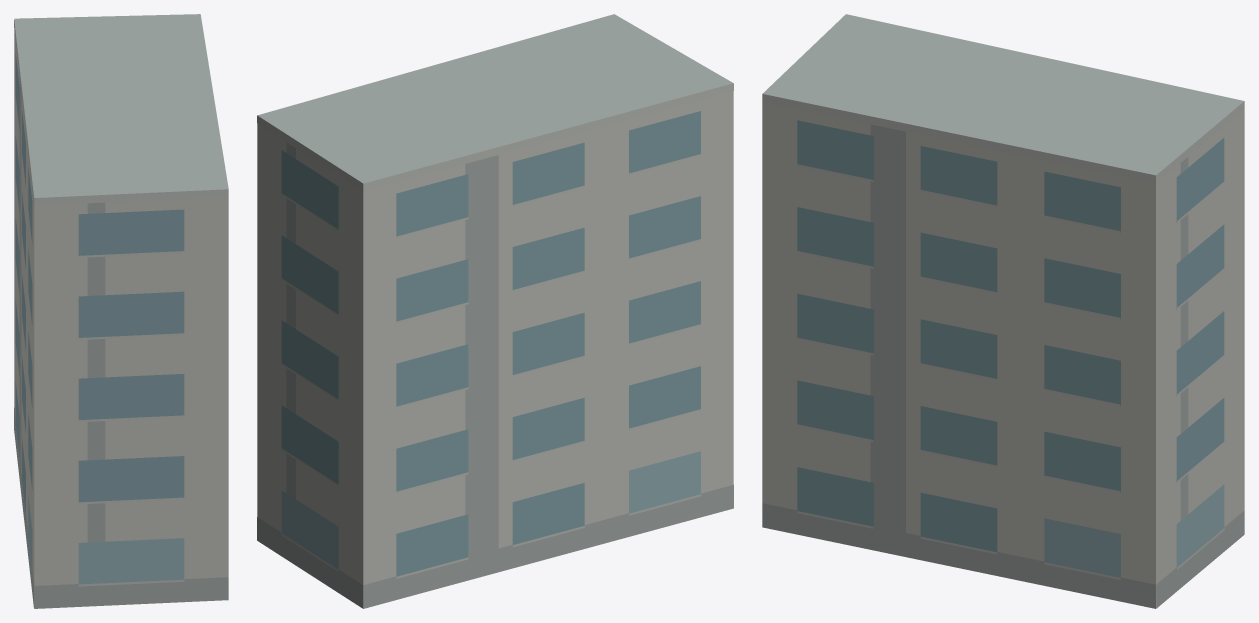
Rendered from survey-upis-32726997.glb.
The picture shows the model from 3 angles, left to right: view 1: azimuth 30°, elevation 25°; view 2: azimuth 150°, elevation 25°; view 3: azimuth 270°, elevation 25°; orthographic projection. The views are drawn at different scales.
Visible parts, largest first — view 1: survey-upis-32726997.tmp; view 2: survey-upis-32726997.tmp; view 3: survey-upis-32726997.tmp.
Part boxes in pixels (bbox=[...]): survey-upis-32726997.tmp: bbox=[14, 14, 228, 608]; survey-upis-32726997.tmp: bbox=[257, 14, 733, 608]; survey-upis-32726997.tmp: bbox=[762, 14, 1244, 608].
Size of the model in its own units: 10.39 by 13 by 13.12.
